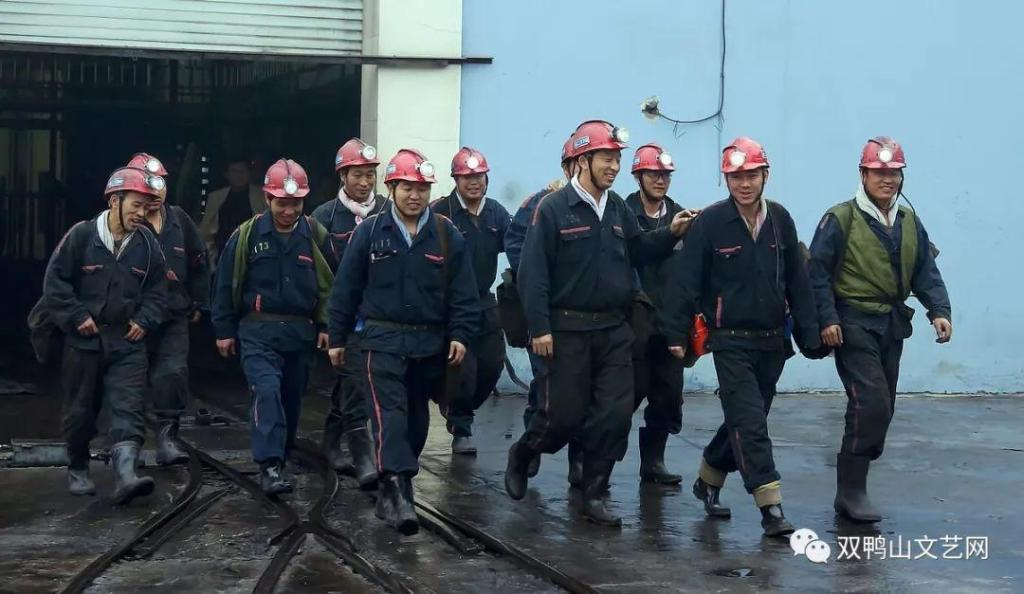helmet: (716, 132, 785, 206), (260, 147, 317, 225), (851, 133, 916, 200), (444, 144, 508, 207), (376, 149, 436, 215), (569, 123, 627, 190), (328, 140, 386, 200), (106, 171, 160, 229)
